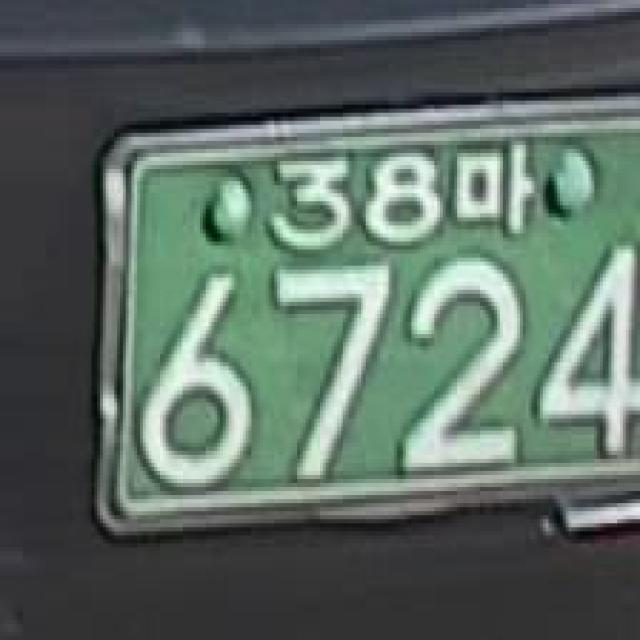illegal_plate: (92, 92, 640, 553)
